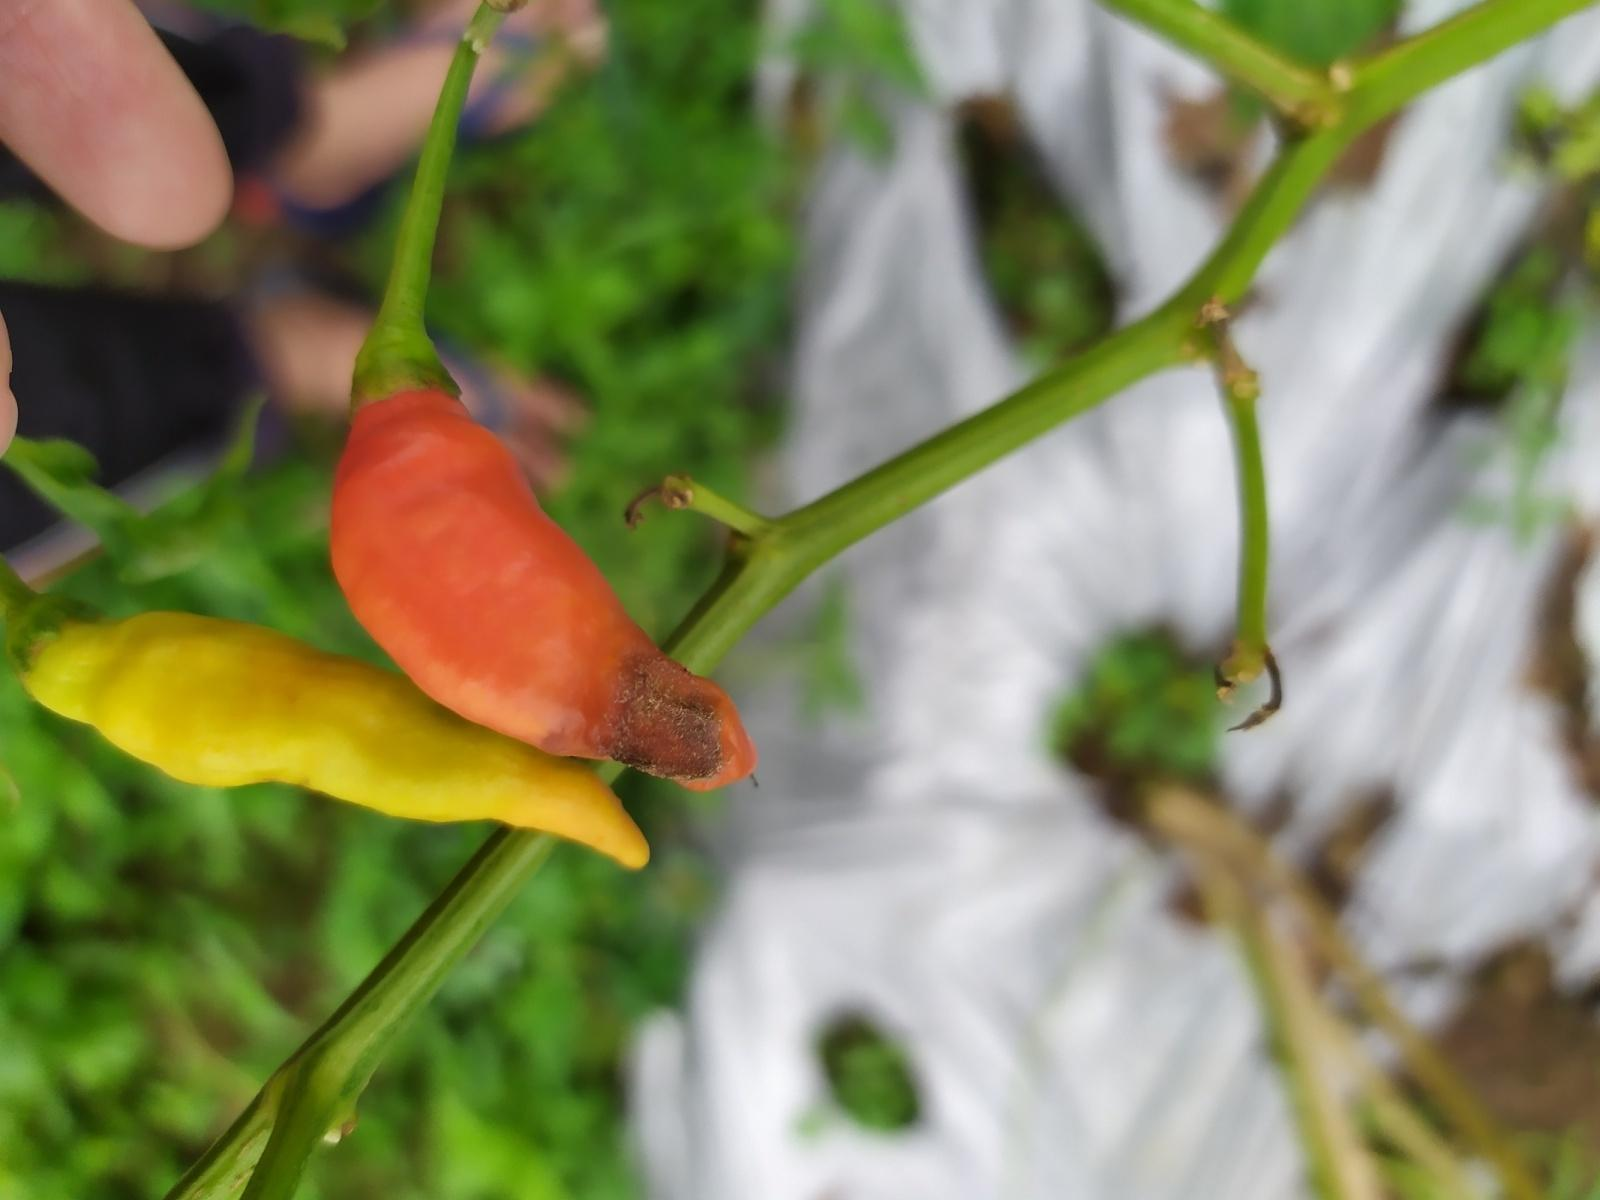antraknosa: (329, 388, 758, 793)
cabai_normal: (19, 608, 648, 880)
